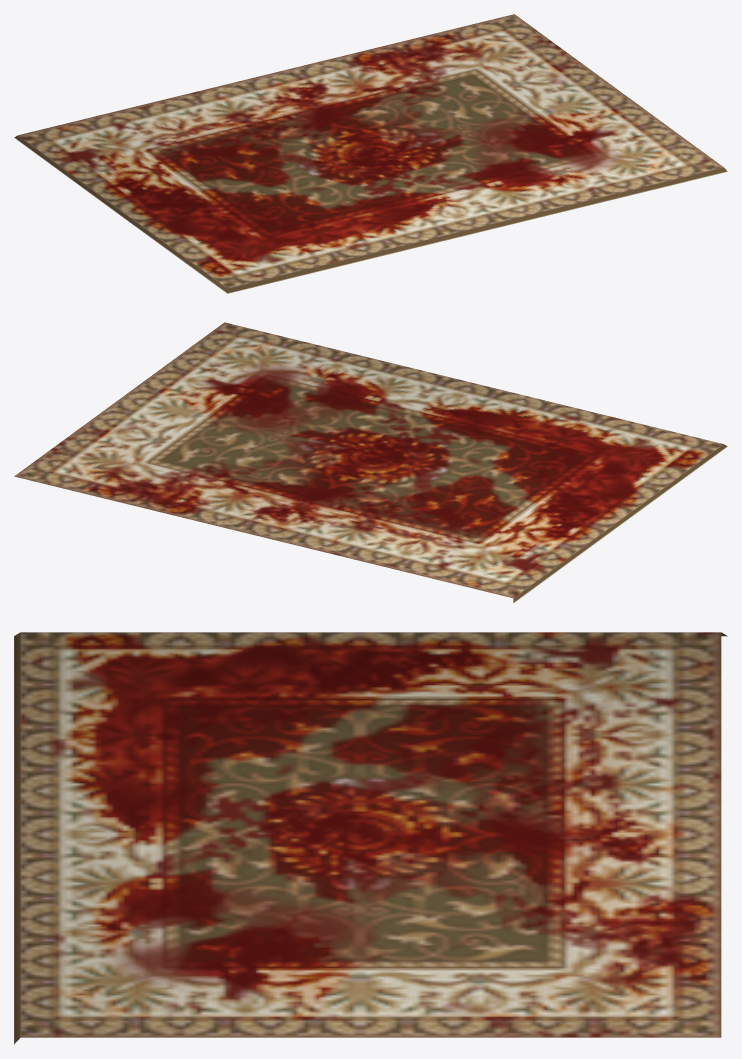
The model's file is TianZhuJiaoTang_01_tanzi_01.FBX.
3 views of the same model, one above another, from view 1: azimuth 30°, elevation 25°; view 2: azimuth 150°, elevation 25°; view 3: azimuth 270°, elevation 25° (orthographic). The views are drawn at different scales.
Visible parts, largest first — view 1: TianZhuJiaoTang_01_tanzi_01; view 2: TianZhuJiaoTang_01_tanzi_01; view 3: TianZhuJiaoTang_01_tanzi_01.
Boxes of the visible parts, bbox=[...] form: TianZhuJiaoTang_01_tanzi_01: bbox=[14, 14, 727, 293]; TianZhuJiaoTang_01_tanzi_01: bbox=[14, 322, 727, 603]; TianZhuJiaoTang_01_tanzi_01: bbox=[14, 632, 727, 1044].
Bounding box in the file's own units: 706 × 4.48 × 521.
